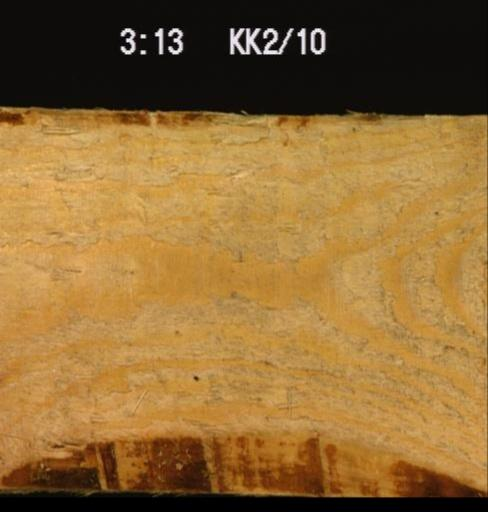wave: (0, 431, 486, 496), (0, 99, 425, 135)
